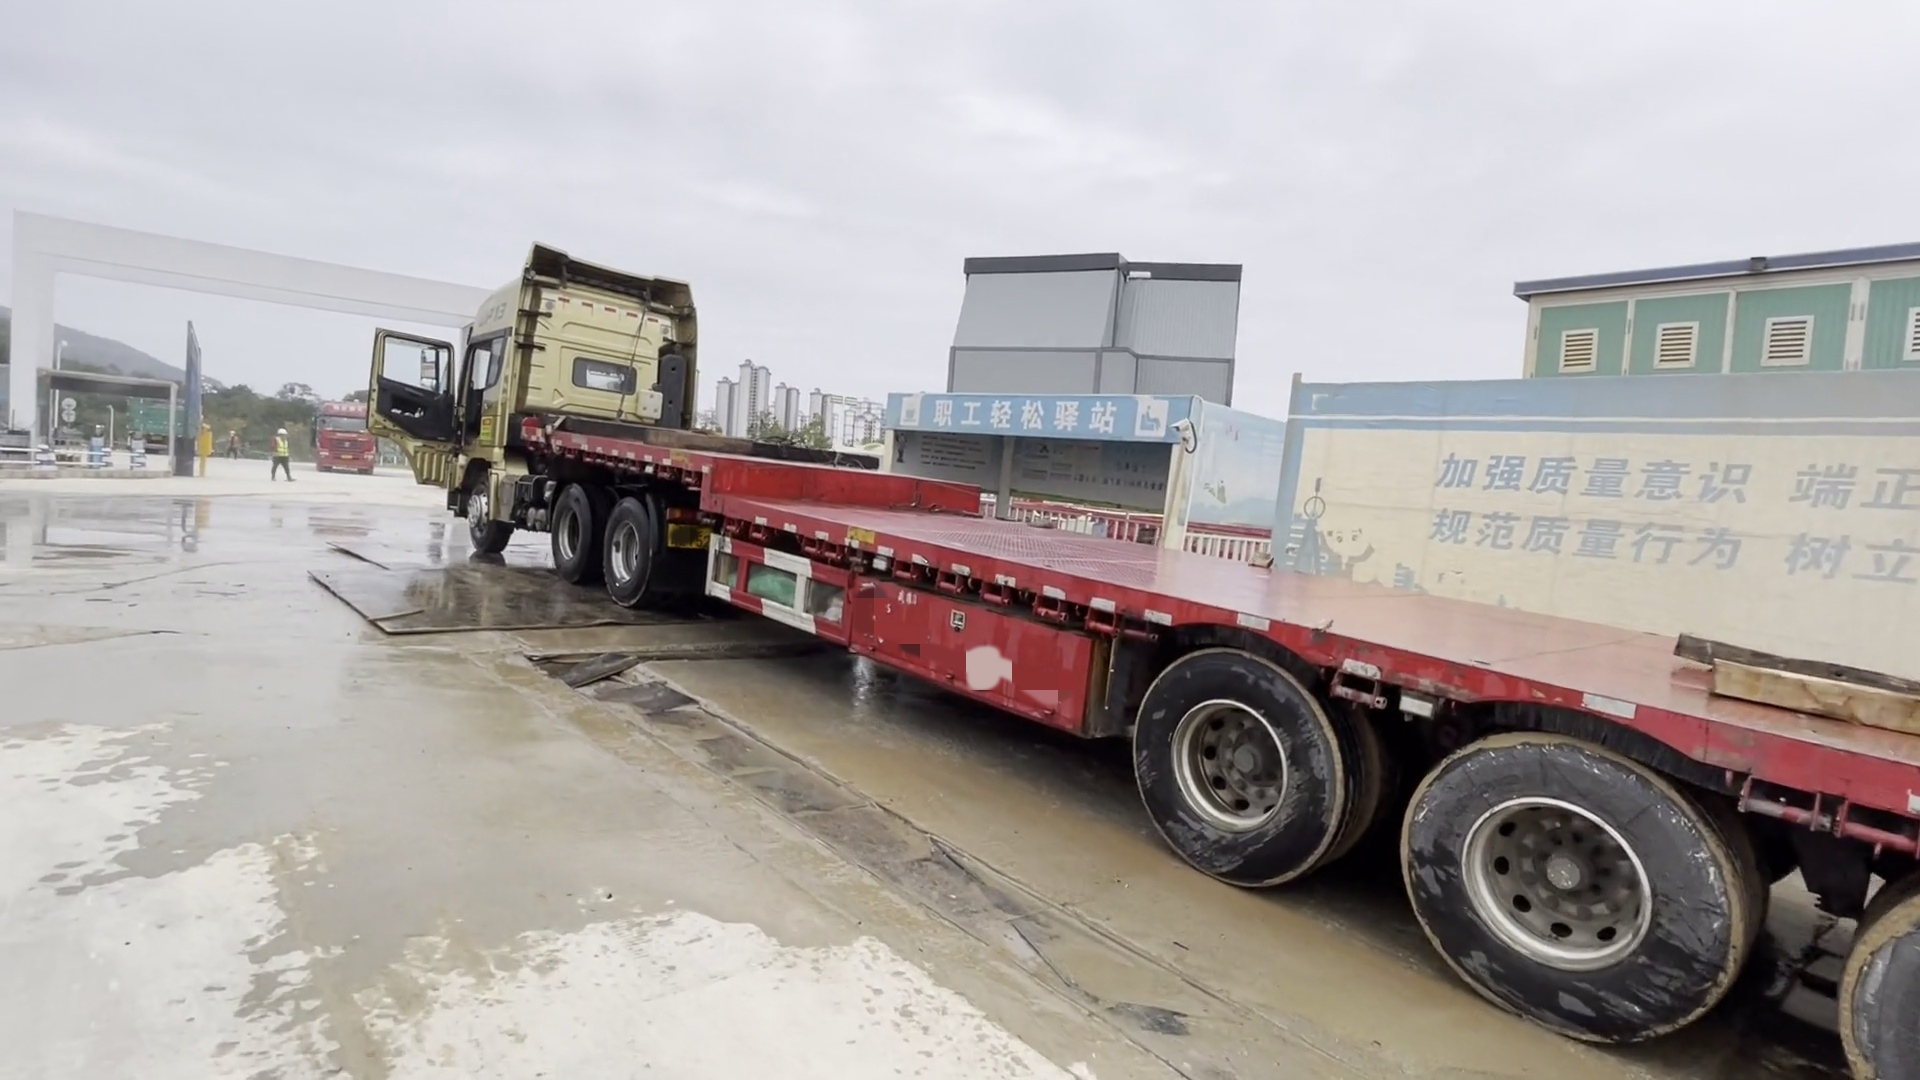helmet: (276, 429, 288, 434)
person: (268, 427, 292, 484), (225, 428, 243, 464)
slogan: (1400, 431, 1920, 648)
vest: (274, 440, 289, 457)
